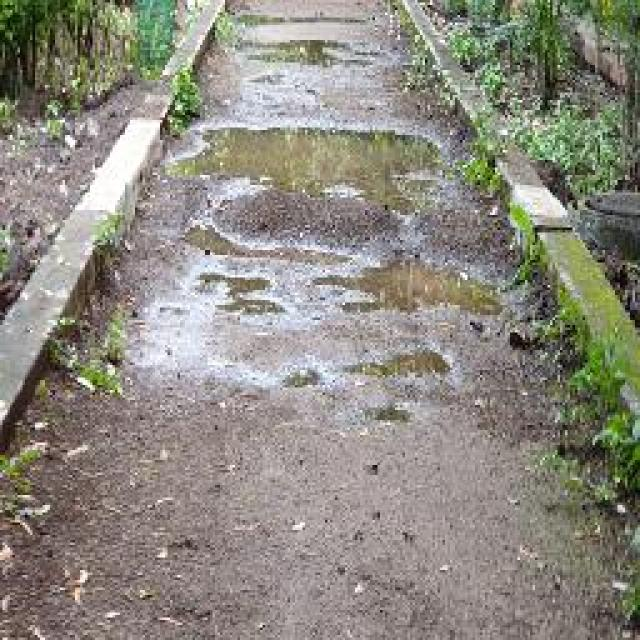puddle: (165, 124, 446, 210), (333, 245, 511, 325)
